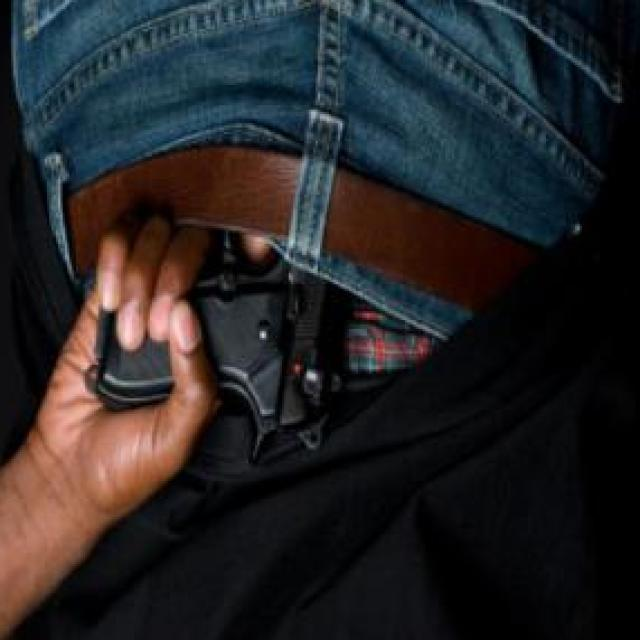pistol: (82, 144, 351, 466)
